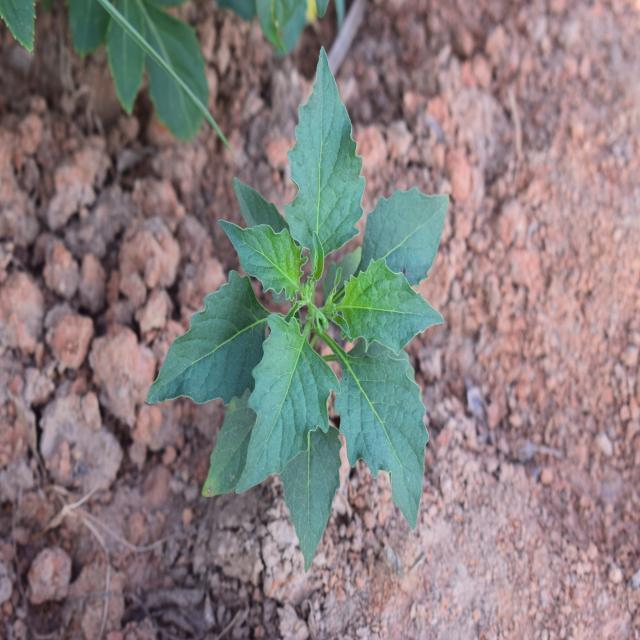Black_nightshade: (190, 68, 459, 554)
